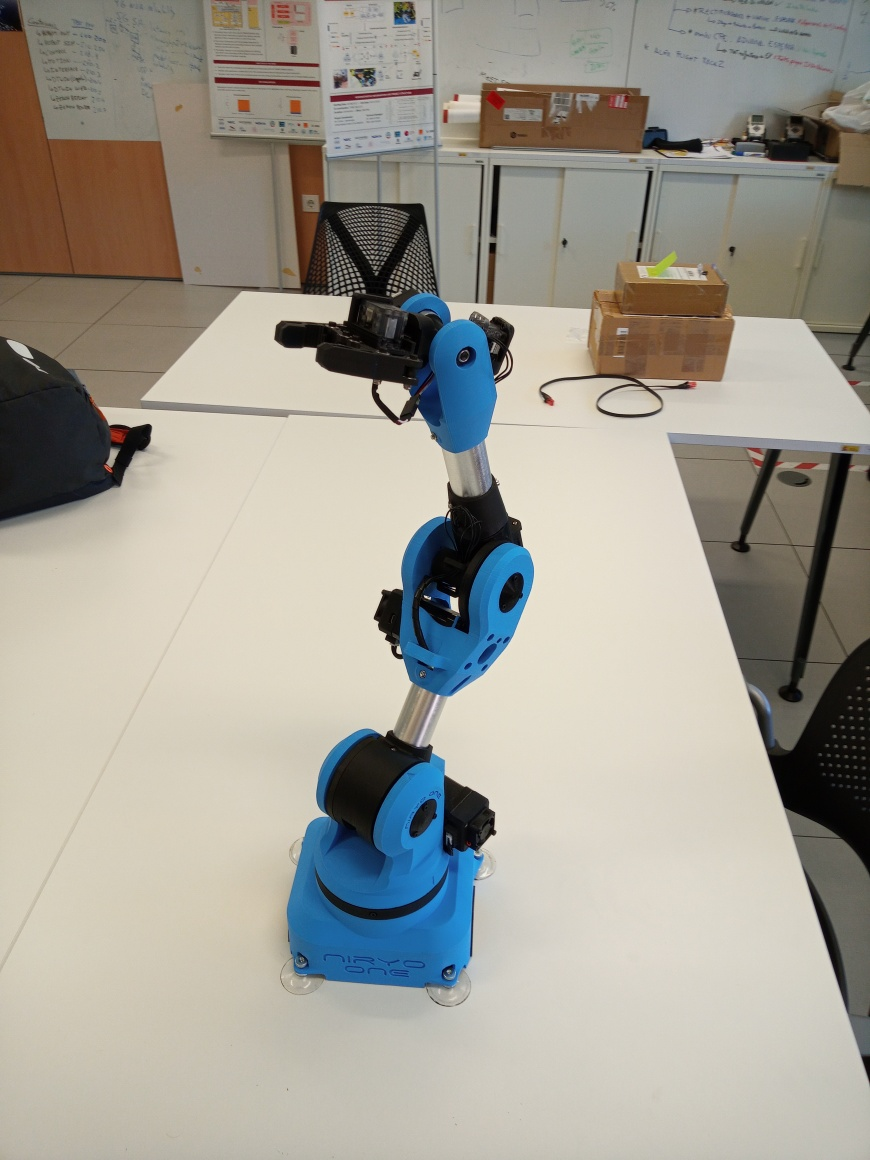robot: (270, 290, 538, 1011)
